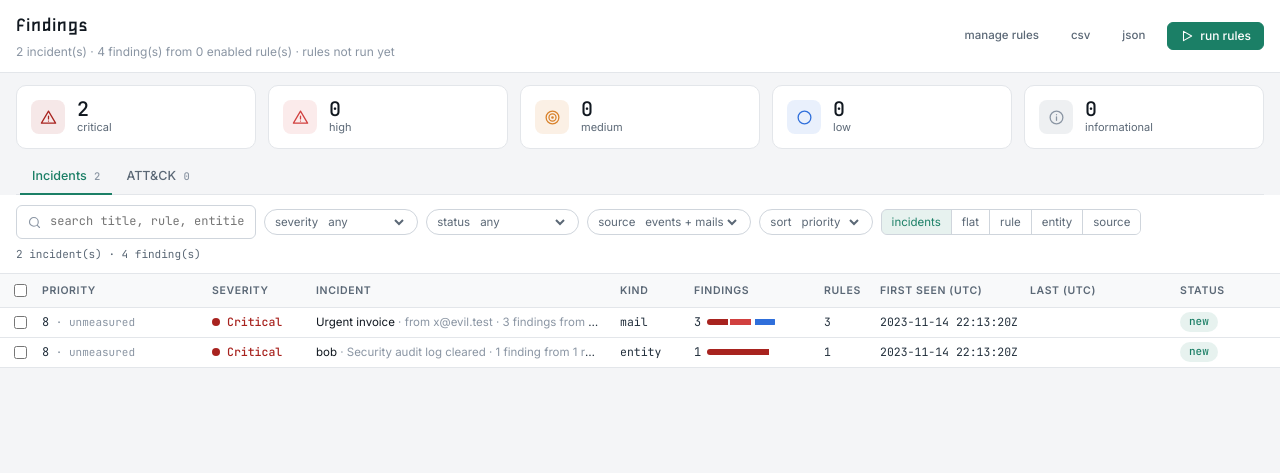
Test: FindingsView › opens a finding from the rule grouping and writes a status change to the database
Click the button "rule" at (1010, 222), box left=989, top=210, right=1031, bottom=234
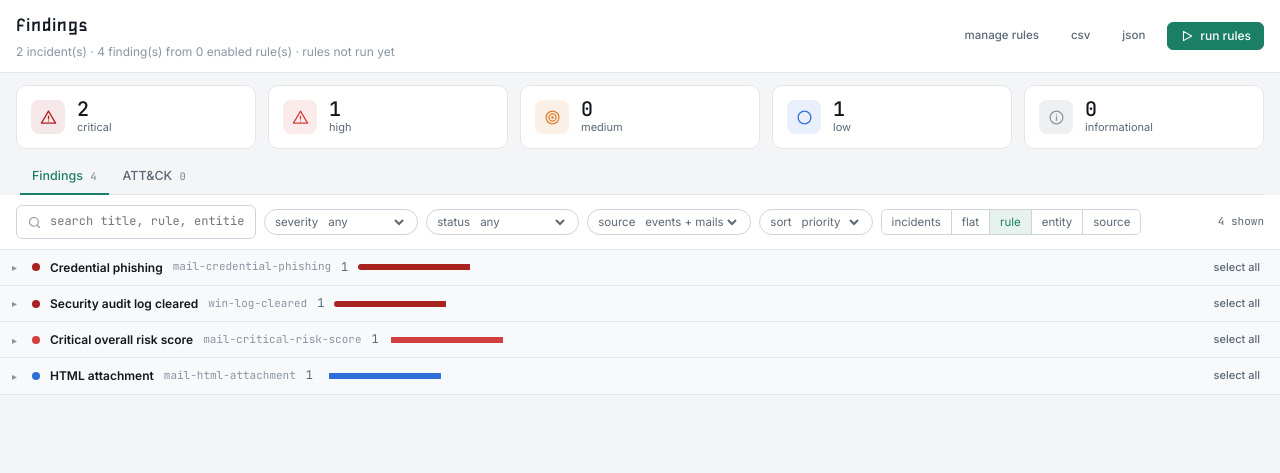
Expected: the number of elements with class "group-row" is 4, left=0, top=250, right=1279, bottom=286; left=0, top=286, right=1279, bottom=322; left=0, top=322, right=1279, bottom=358; left=0, top=358, right=1279, bottom=395
Click the text "Security audit log cleared" at (124, 304), box left=50, top=295, right=198, bottom=312
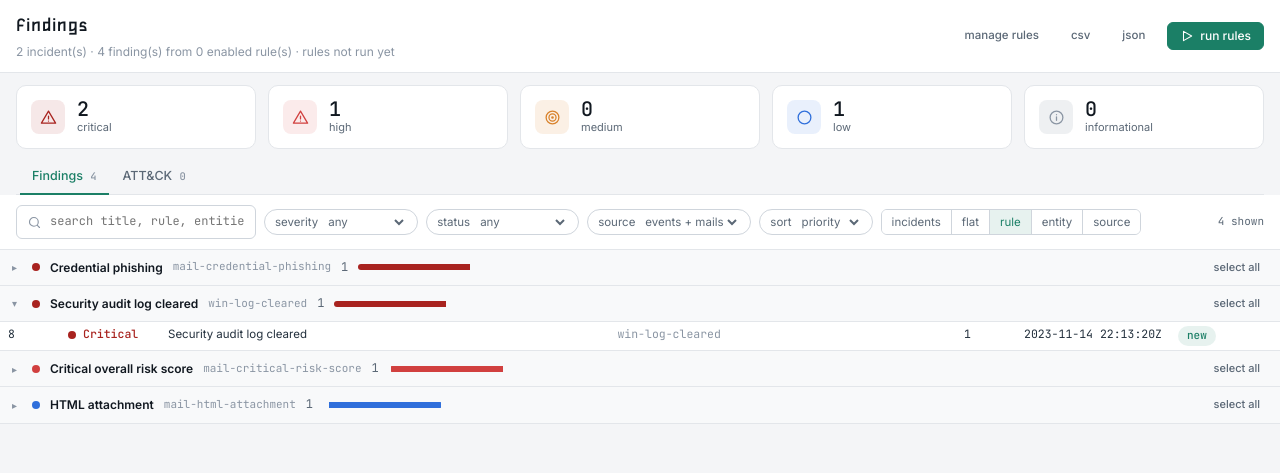
Expected: the row is shown
Click the row at (640, 336), box left=0, top=322, right=1279, bottom=351
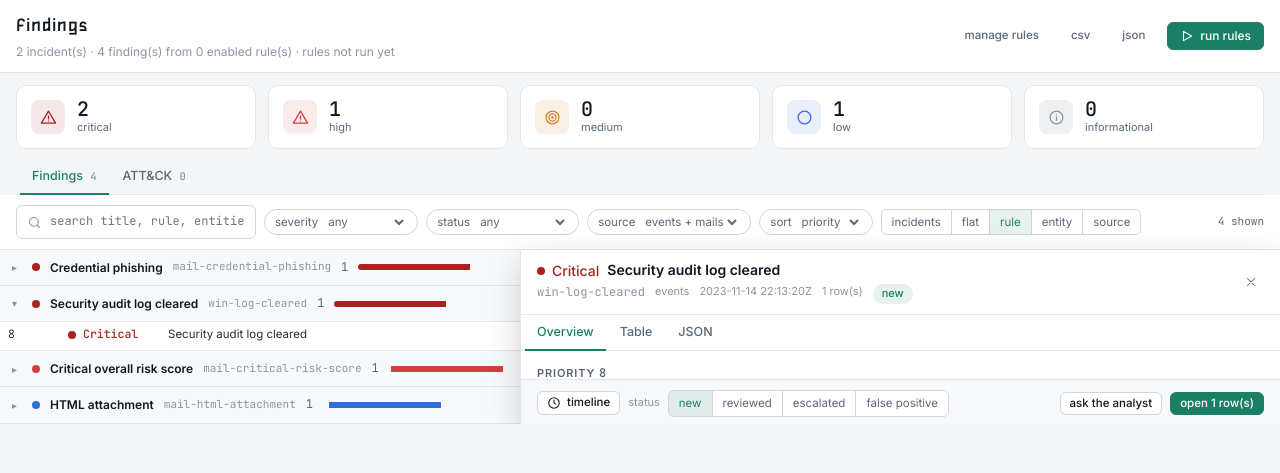
Expected: the element with class "flyout" is shown, left=520, top=250, right=1279, bottom=424
Click the button "false positive" at (902, 403), box left=855, top=391, right=948, bottom=416
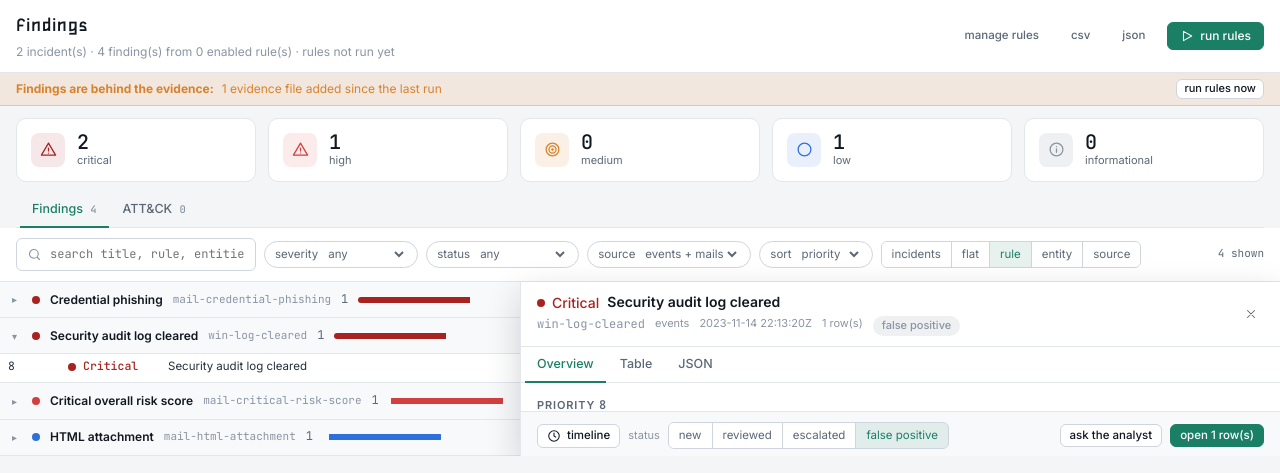
Note: a false positive leaves the queue and the counts: one incident remains, the toggle offers it back
Click the button "incidents" at (916, 254), box left=882, top=242, right=951, bottom=267
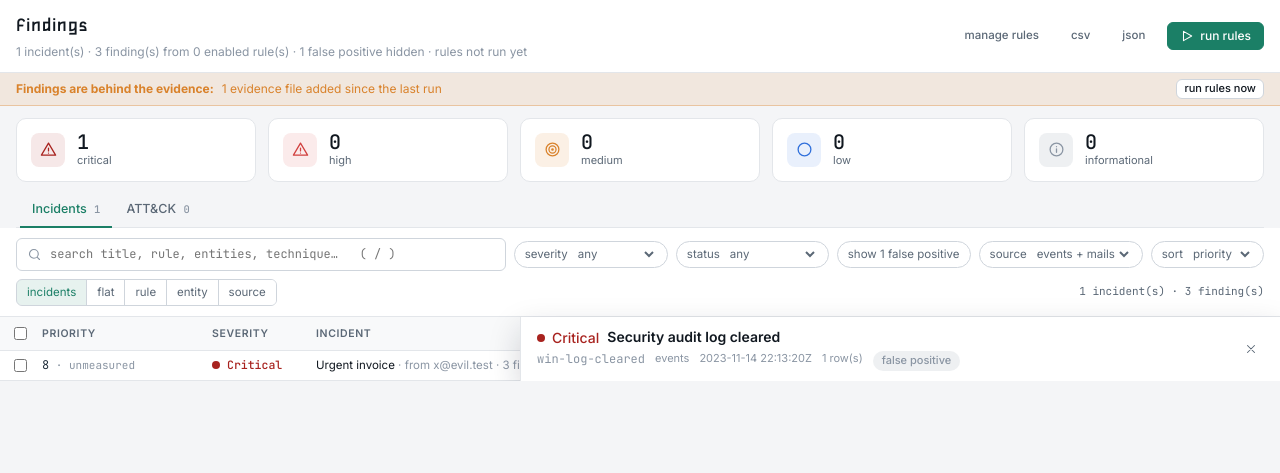
Expected: the text with class "sub" shows "1 incident(s) · 3 finding(s)", left=16, top=43, right=527, bottom=60
Expected: the text with class "sub" shows "1 false positive hidden", left=289, top=44, right=425, bottom=59
Click the button "show 1 false positive" at (904, 254), box left=837, top=241, right=971, bottom=268
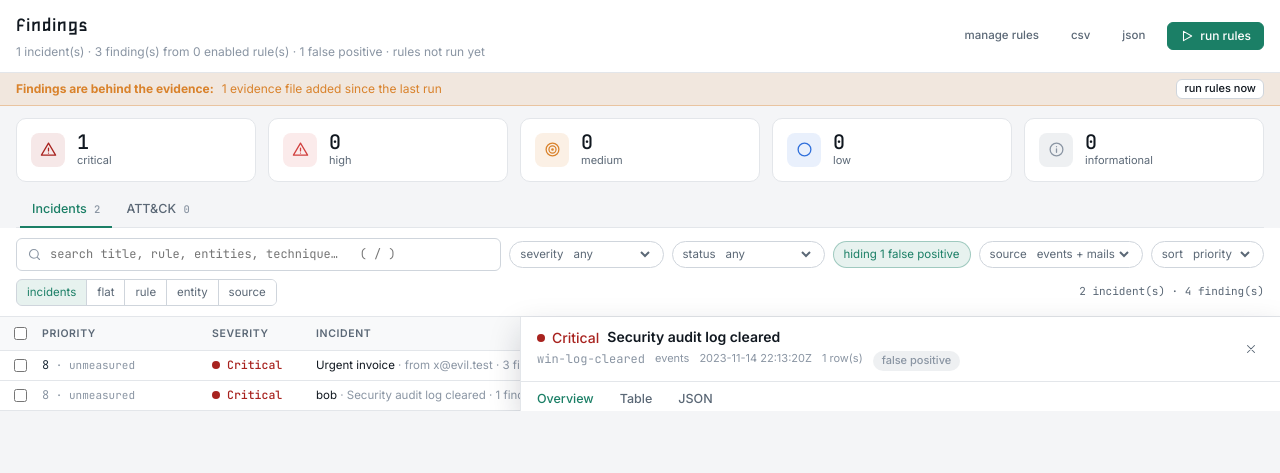
Expected: the text with class "sub" shows "1 false positive", left=289, top=44, right=382, bottom=59
Expected: the text with class "sub" no longer shows "hidden"
